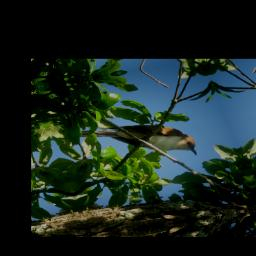Cuckoo: (73, 111, 202, 175)
